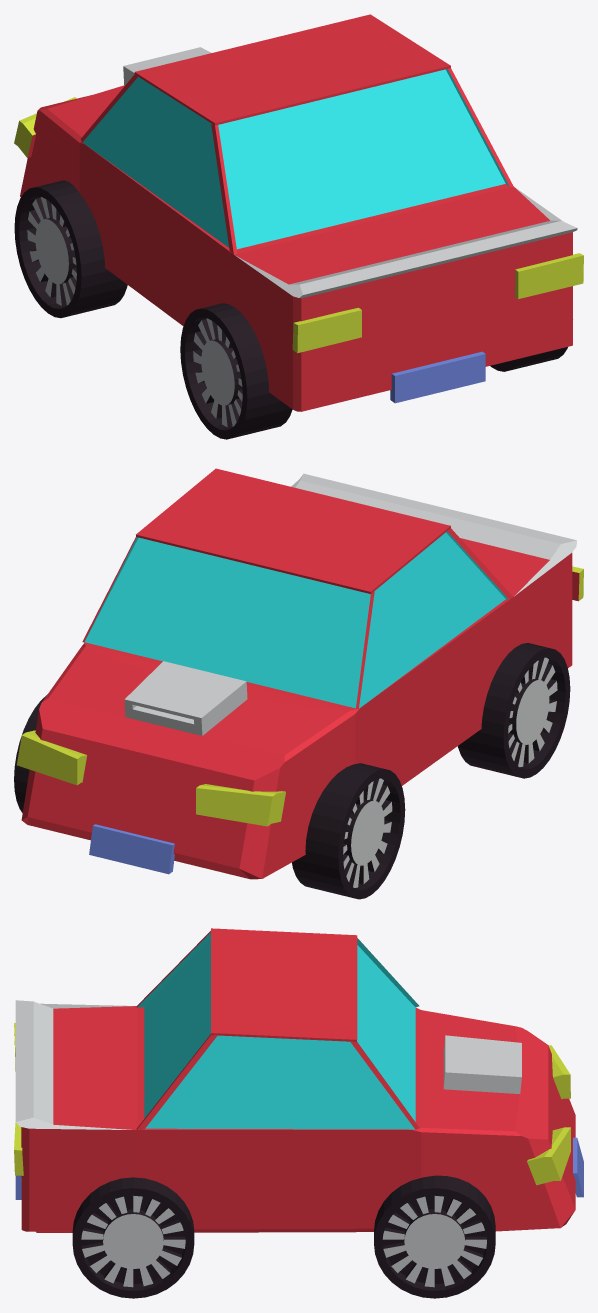
File: carro.fbx
3 views of the same model, one above another, from view 1: azimuth 30°, elevation 25°; view 2: azimuth 150°, elevation 25°; view 3: azimuth 270°, elevation 25° (orthographic). The views are drawn at different scales.
Visible parts, largest first — view 1: Car; view 2: Car; view 3: Car.
Boxes of the visible parts, box(x1,y1,x2,y2) form: Car: box(14, 14, 583, 439); Car: box(14, 468, 583, 899); Car: box(14, 928, 583, 1298).
Bounding box in the file's own units: 435 × 344 × 726.
